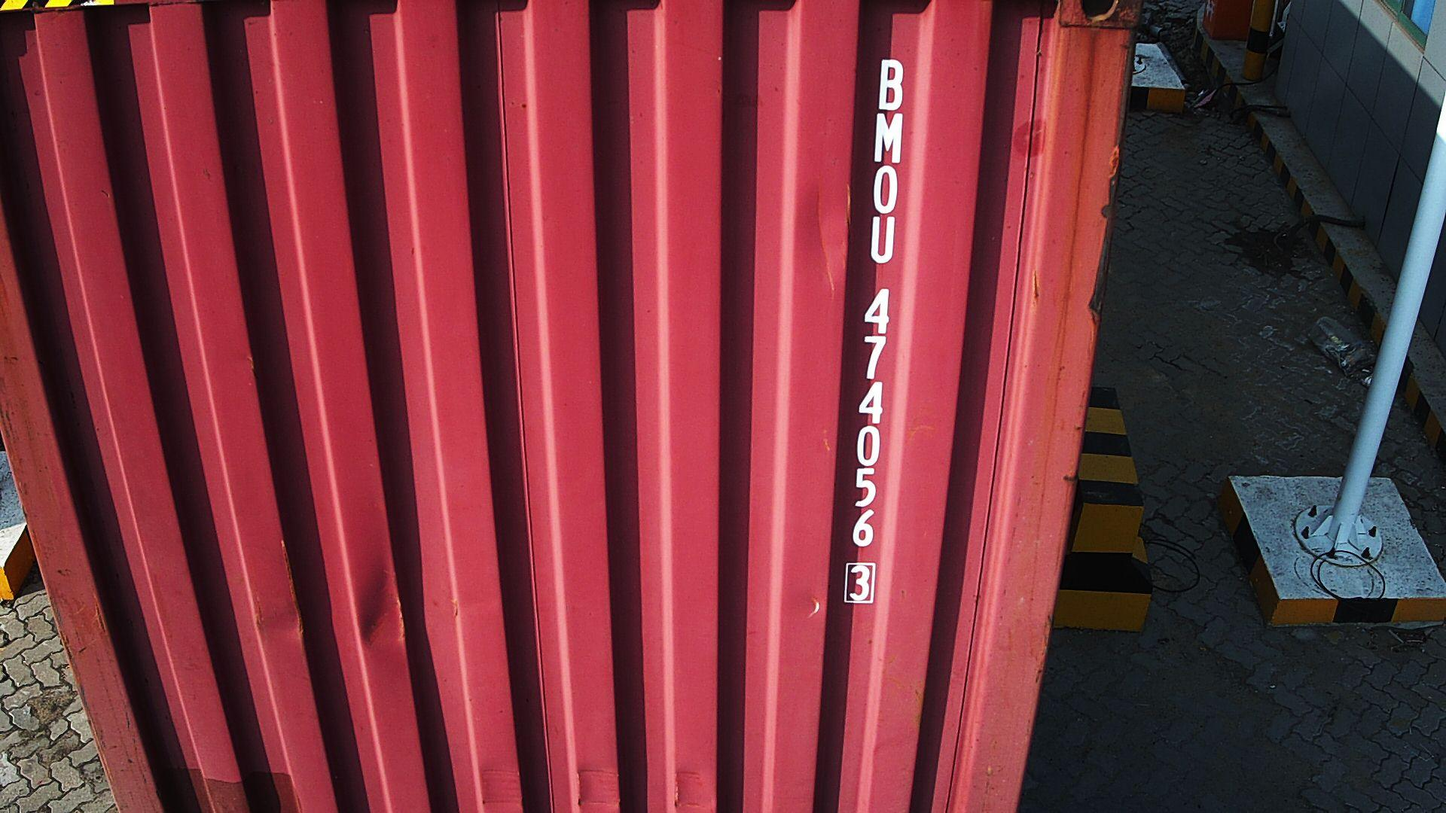container-numbers: (840, 50, 906, 616)
